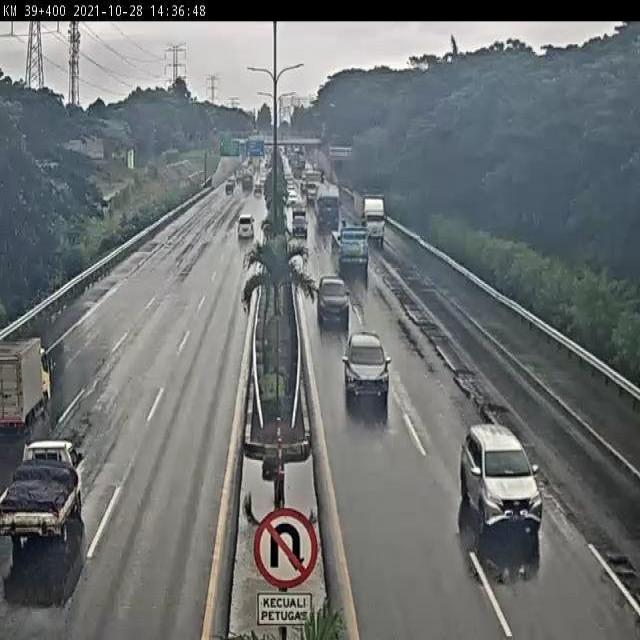big truck: (359, 196, 379, 235), (321, 184, 339, 216)
car: (379, 534, 472, 640), (454, 437, 526, 528), (339, 331, 386, 396), (326, 218, 362, 270), (313, 260, 339, 308), (236, 223, 266, 256), (289, 208, 308, 229)
small truck: (6, 469, 51, 584), (5, 333, 48, 423)
